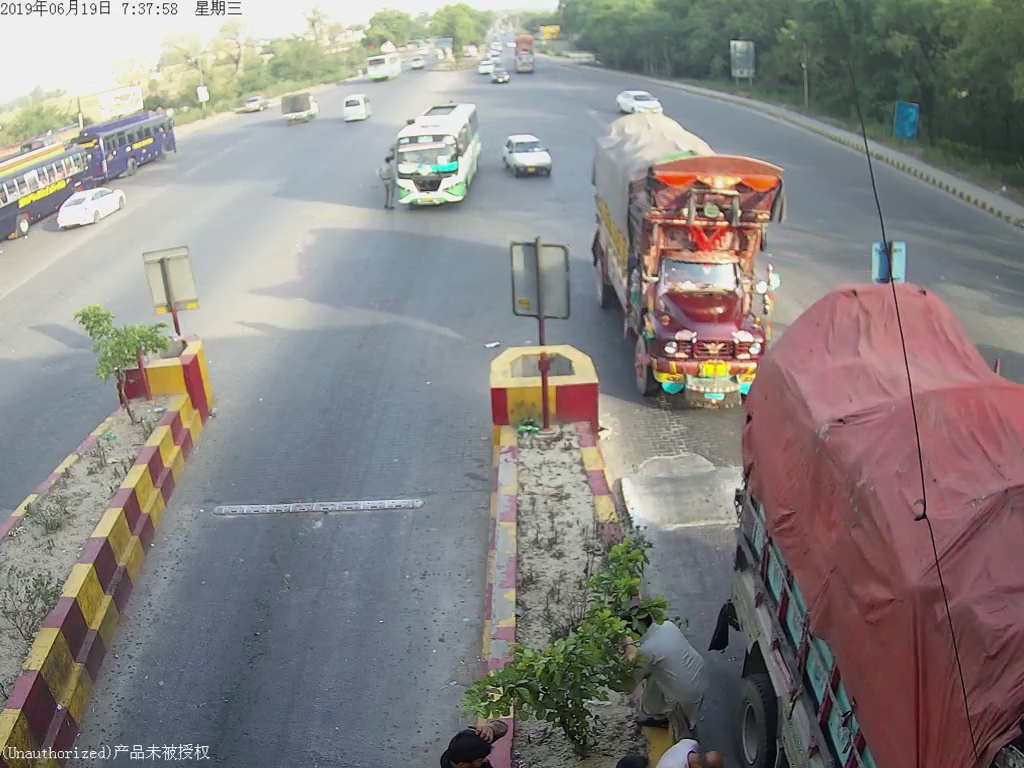Cat-1: (503, 127, 552, 177)
Cat-3: (395, 97, 486, 212)
Cat-4: (597, 118, 782, 397)
